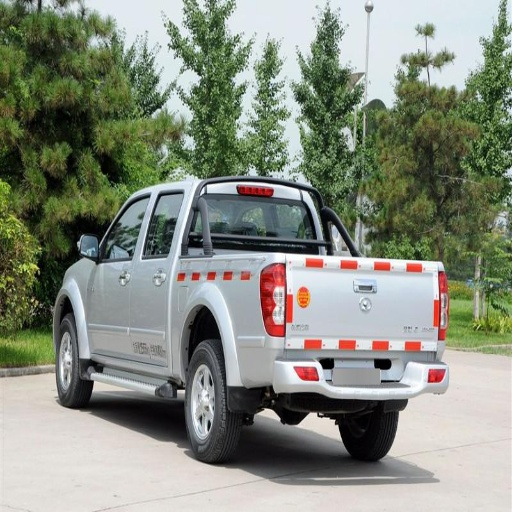back_bumper: (274, 358, 432, 400)
back_glass: (210, 194, 317, 248)
back_left_door: (131, 191, 182, 328)
trunk: (146, 251, 438, 386)
